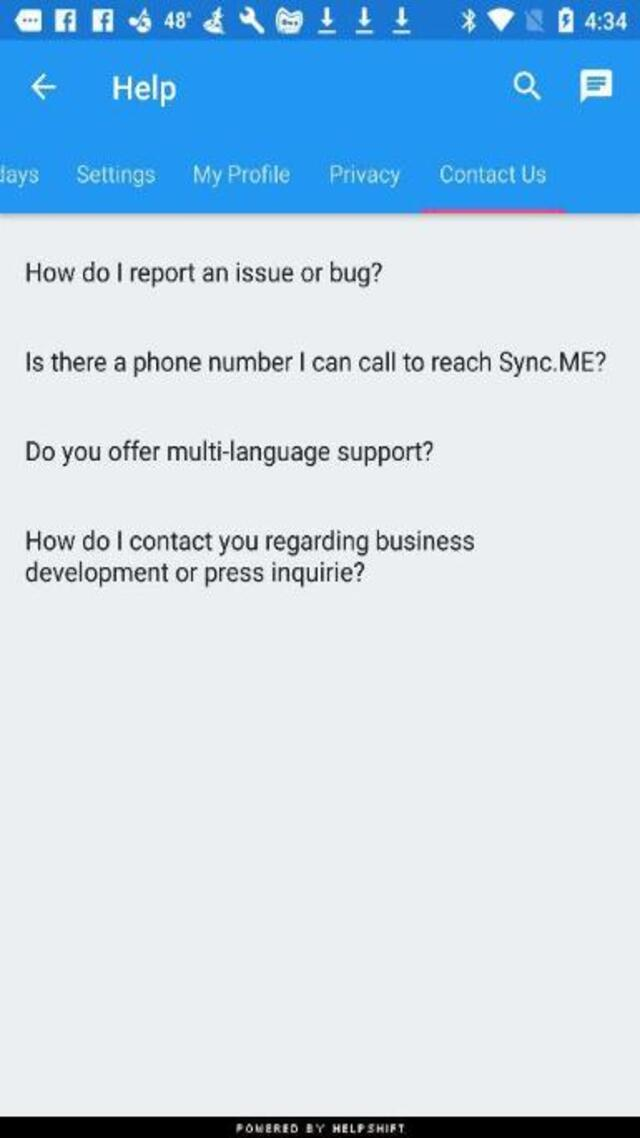Icon: (579, 69, 611, 105), (513, 70, 541, 100), (29, 72, 56, 102)
Text: (27, 350, 605, 375), (19, 529, 483, 556), (18, 558, 374, 590), (26, 440, 433, 467), (25, 260, 381, 288), (194, 164, 290, 188), (439, 162, 545, 183), (113, 73, 176, 108), (78, 164, 156, 188), (328, 164, 399, 188), (237, 1123, 405, 1132), (1, 164, 39, 188)
